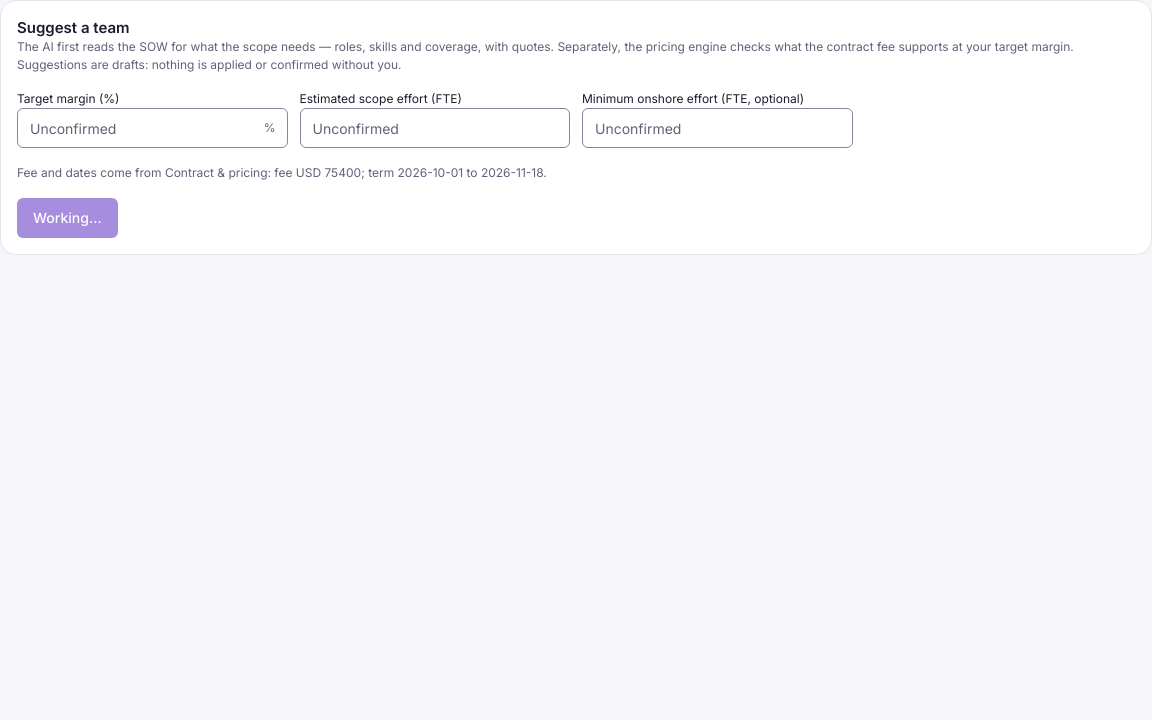
Test: PlanTeamPanel › shows the demand estimate with role shapes, quotes and the feasible mix
The width and height of the screenshot is (1152, 720).
Click the button with test id "plan-team-advise": point(67, 218) [17,198,118,238]
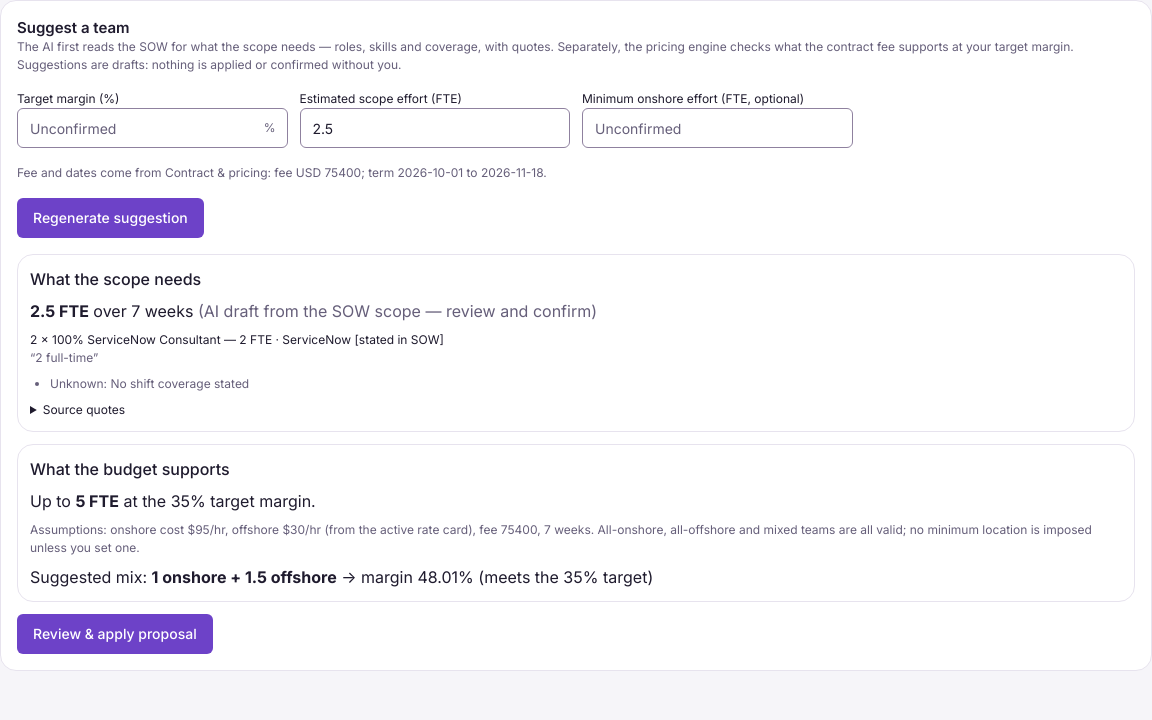
Expected: the element with test id "plan-team-result" is shown, [17,254,1135,654]
Expected: the text "2.5 FTE" is shown, [30,301,89,321]
Expected: the list with test id "plan-team-roles" shows "2 × 100% ServiceNow Consultant", [30,332,444,365]
